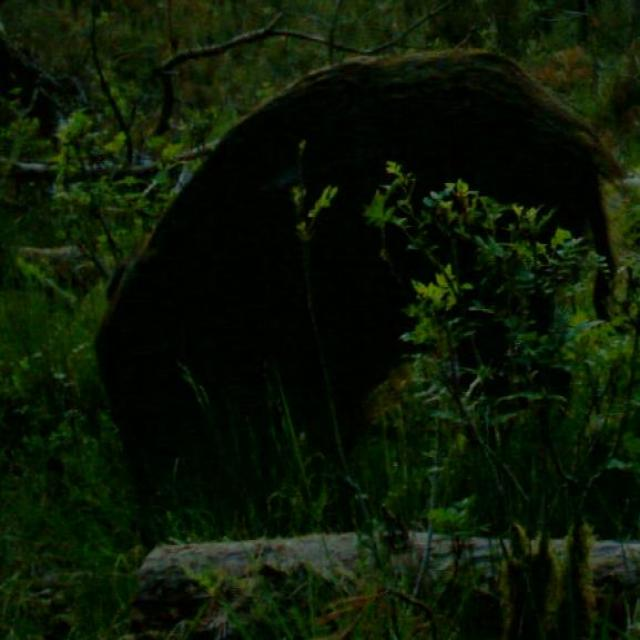pig: (75, 28, 633, 562)
